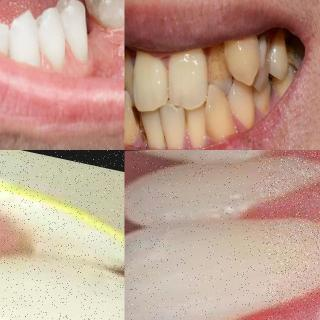Gum Swelling: (250, 167, 320, 249), (236, 272, 320, 320)
maligned: (224, 23, 260, 89), (203, 85, 237, 143), (206, 36, 232, 100), (157, 100, 185, 150), (124, 53, 144, 107), (124, 90, 142, 148)
stains: (204, 44, 244, 85)
